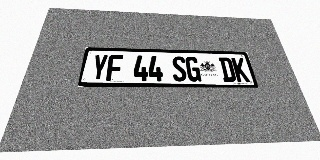4: (133, 55, 148, 81), (149, 56, 163, 81)
D: (218, 57, 237, 82)
F: (106, 55, 123, 81)
G: (185, 56, 202, 82)
K: (231, 58, 250, 82)
S: (172, 56, 187, 81)
Y: (90, 54, 109, 81)
